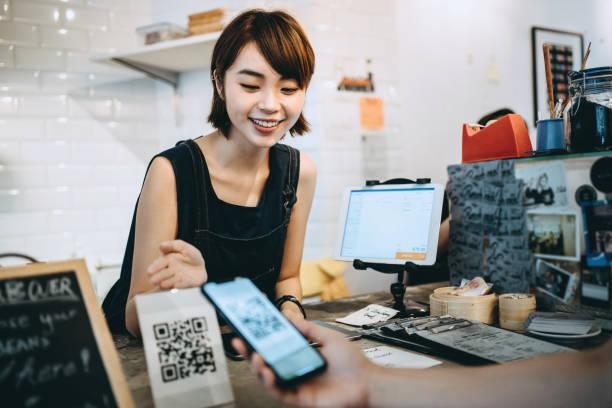Finder pattern: (150, 320, 174, 343), (189, 314, 211, 336), (157, 362, 177, 380)
